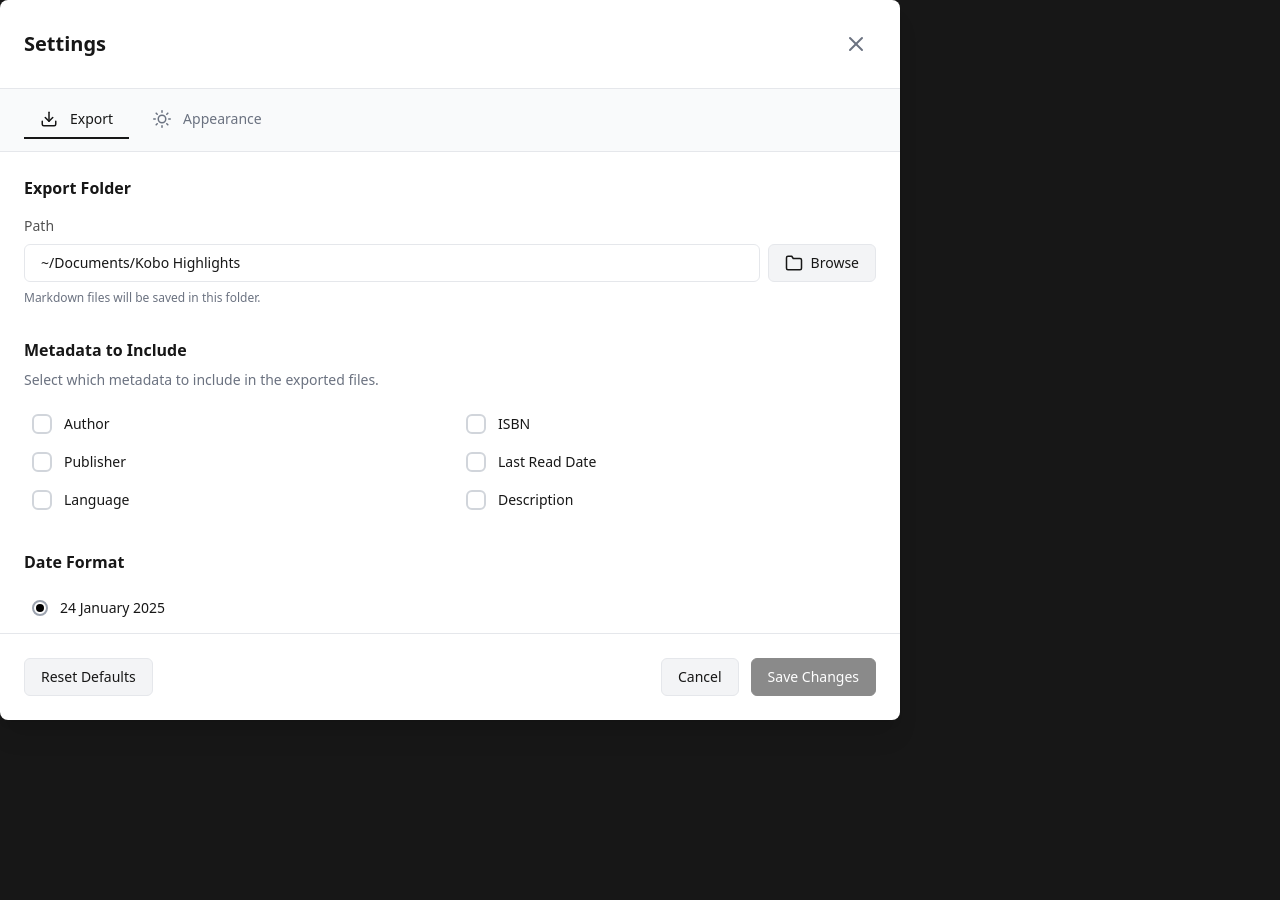
Scenario: SettingsPanel › should switch to appearance tab when clicked
Click the tab "Appearance" at (207, 120), box [137,101,278,139]
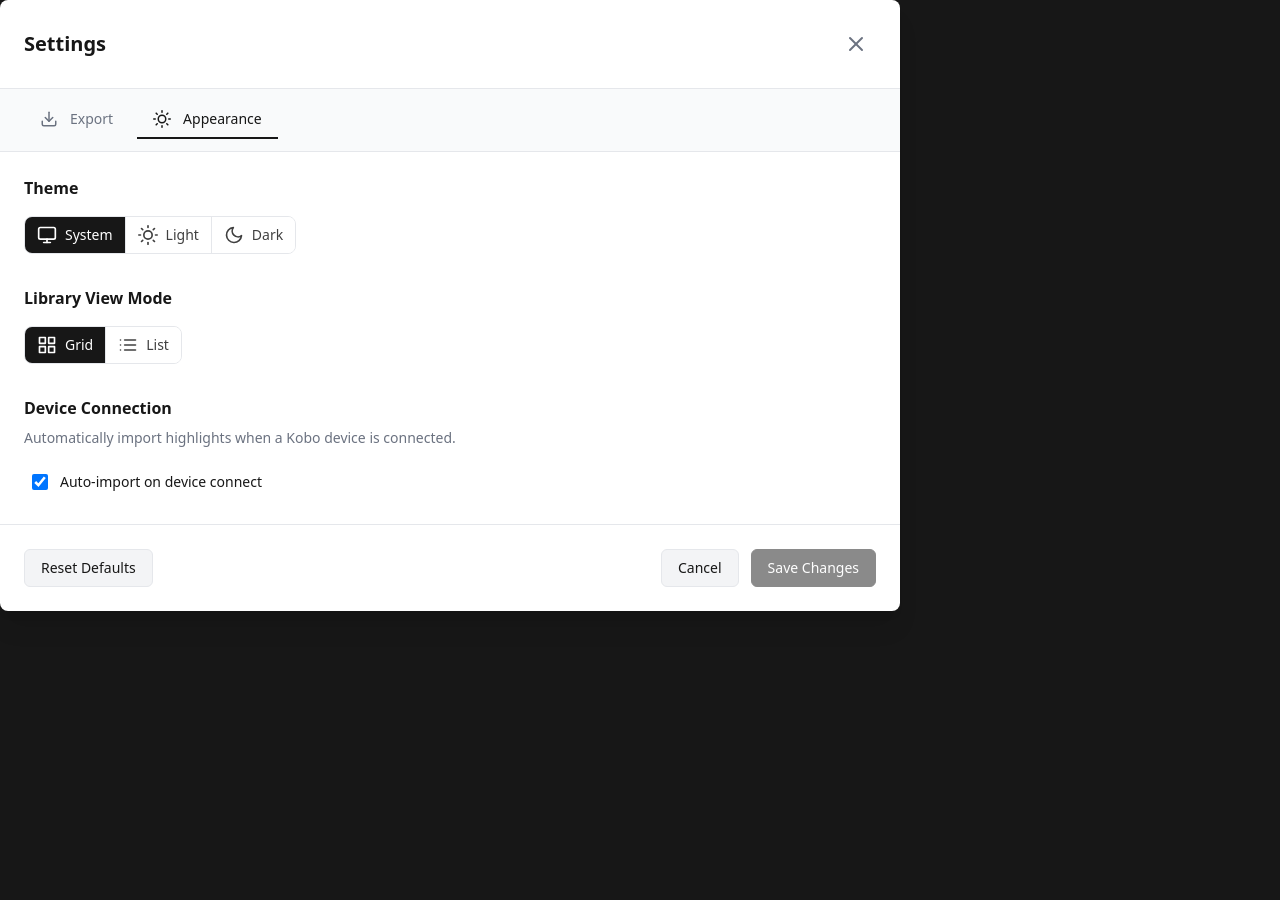
Expected: the heading "Theme" is shown, [24,177,78,199]
